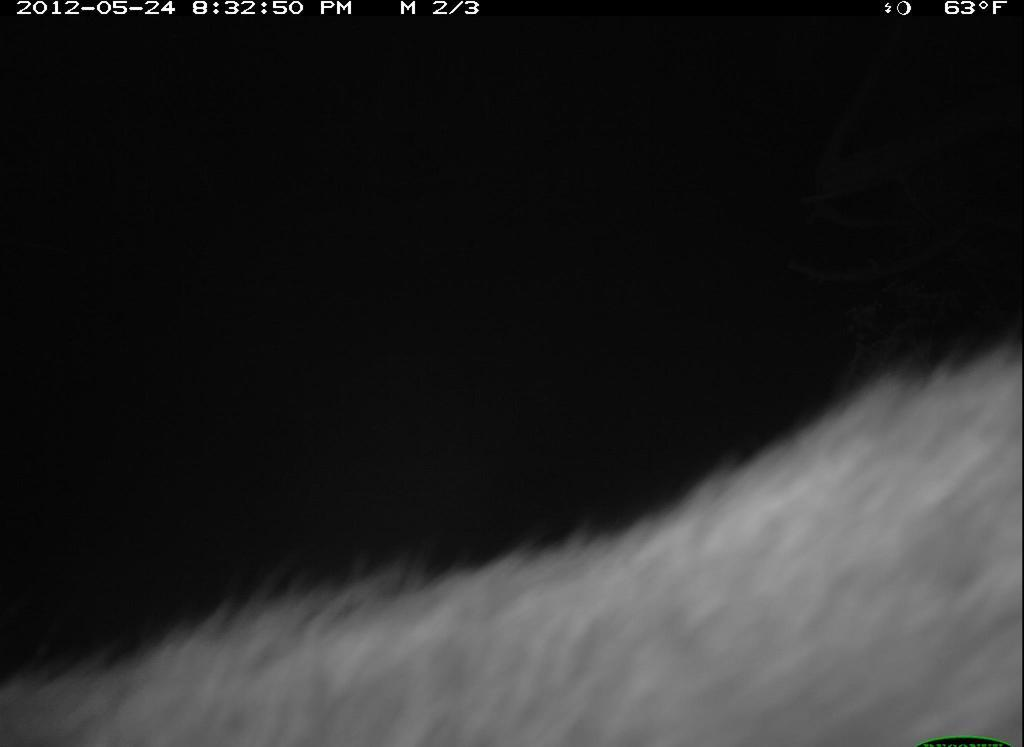raccoon: (2, 321, 1023, 747)
